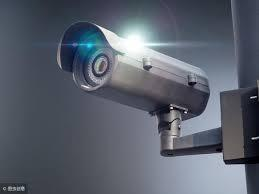tutu: (58, 21, 211, 120)
